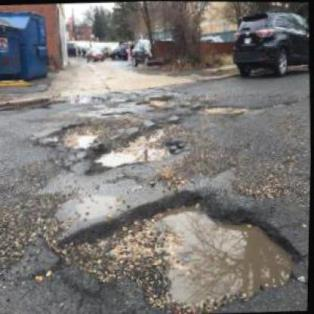Hueco: (51, 182, 309, 313), (87, 119, 189, 178), (47, 119, 105, 151), (206, 102, 257, 114), (148, 94, 170, 106)
